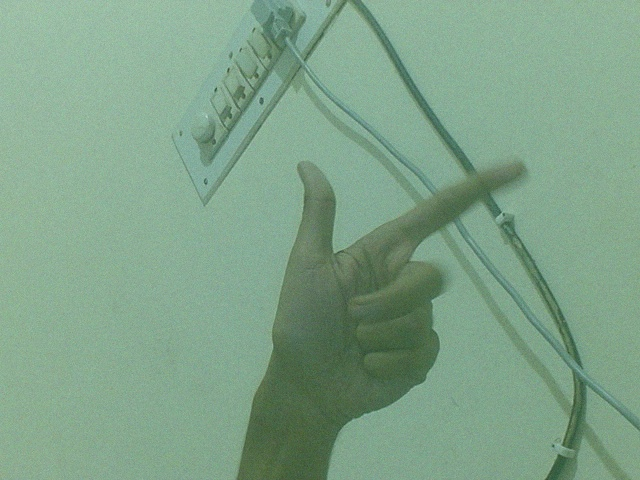hand: (266, 155, 537, 436)
